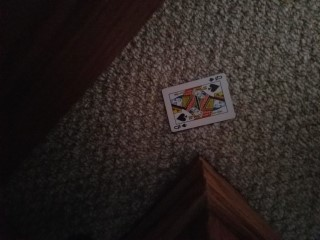QueenOfSpades: (162, 73, 236, 132)
